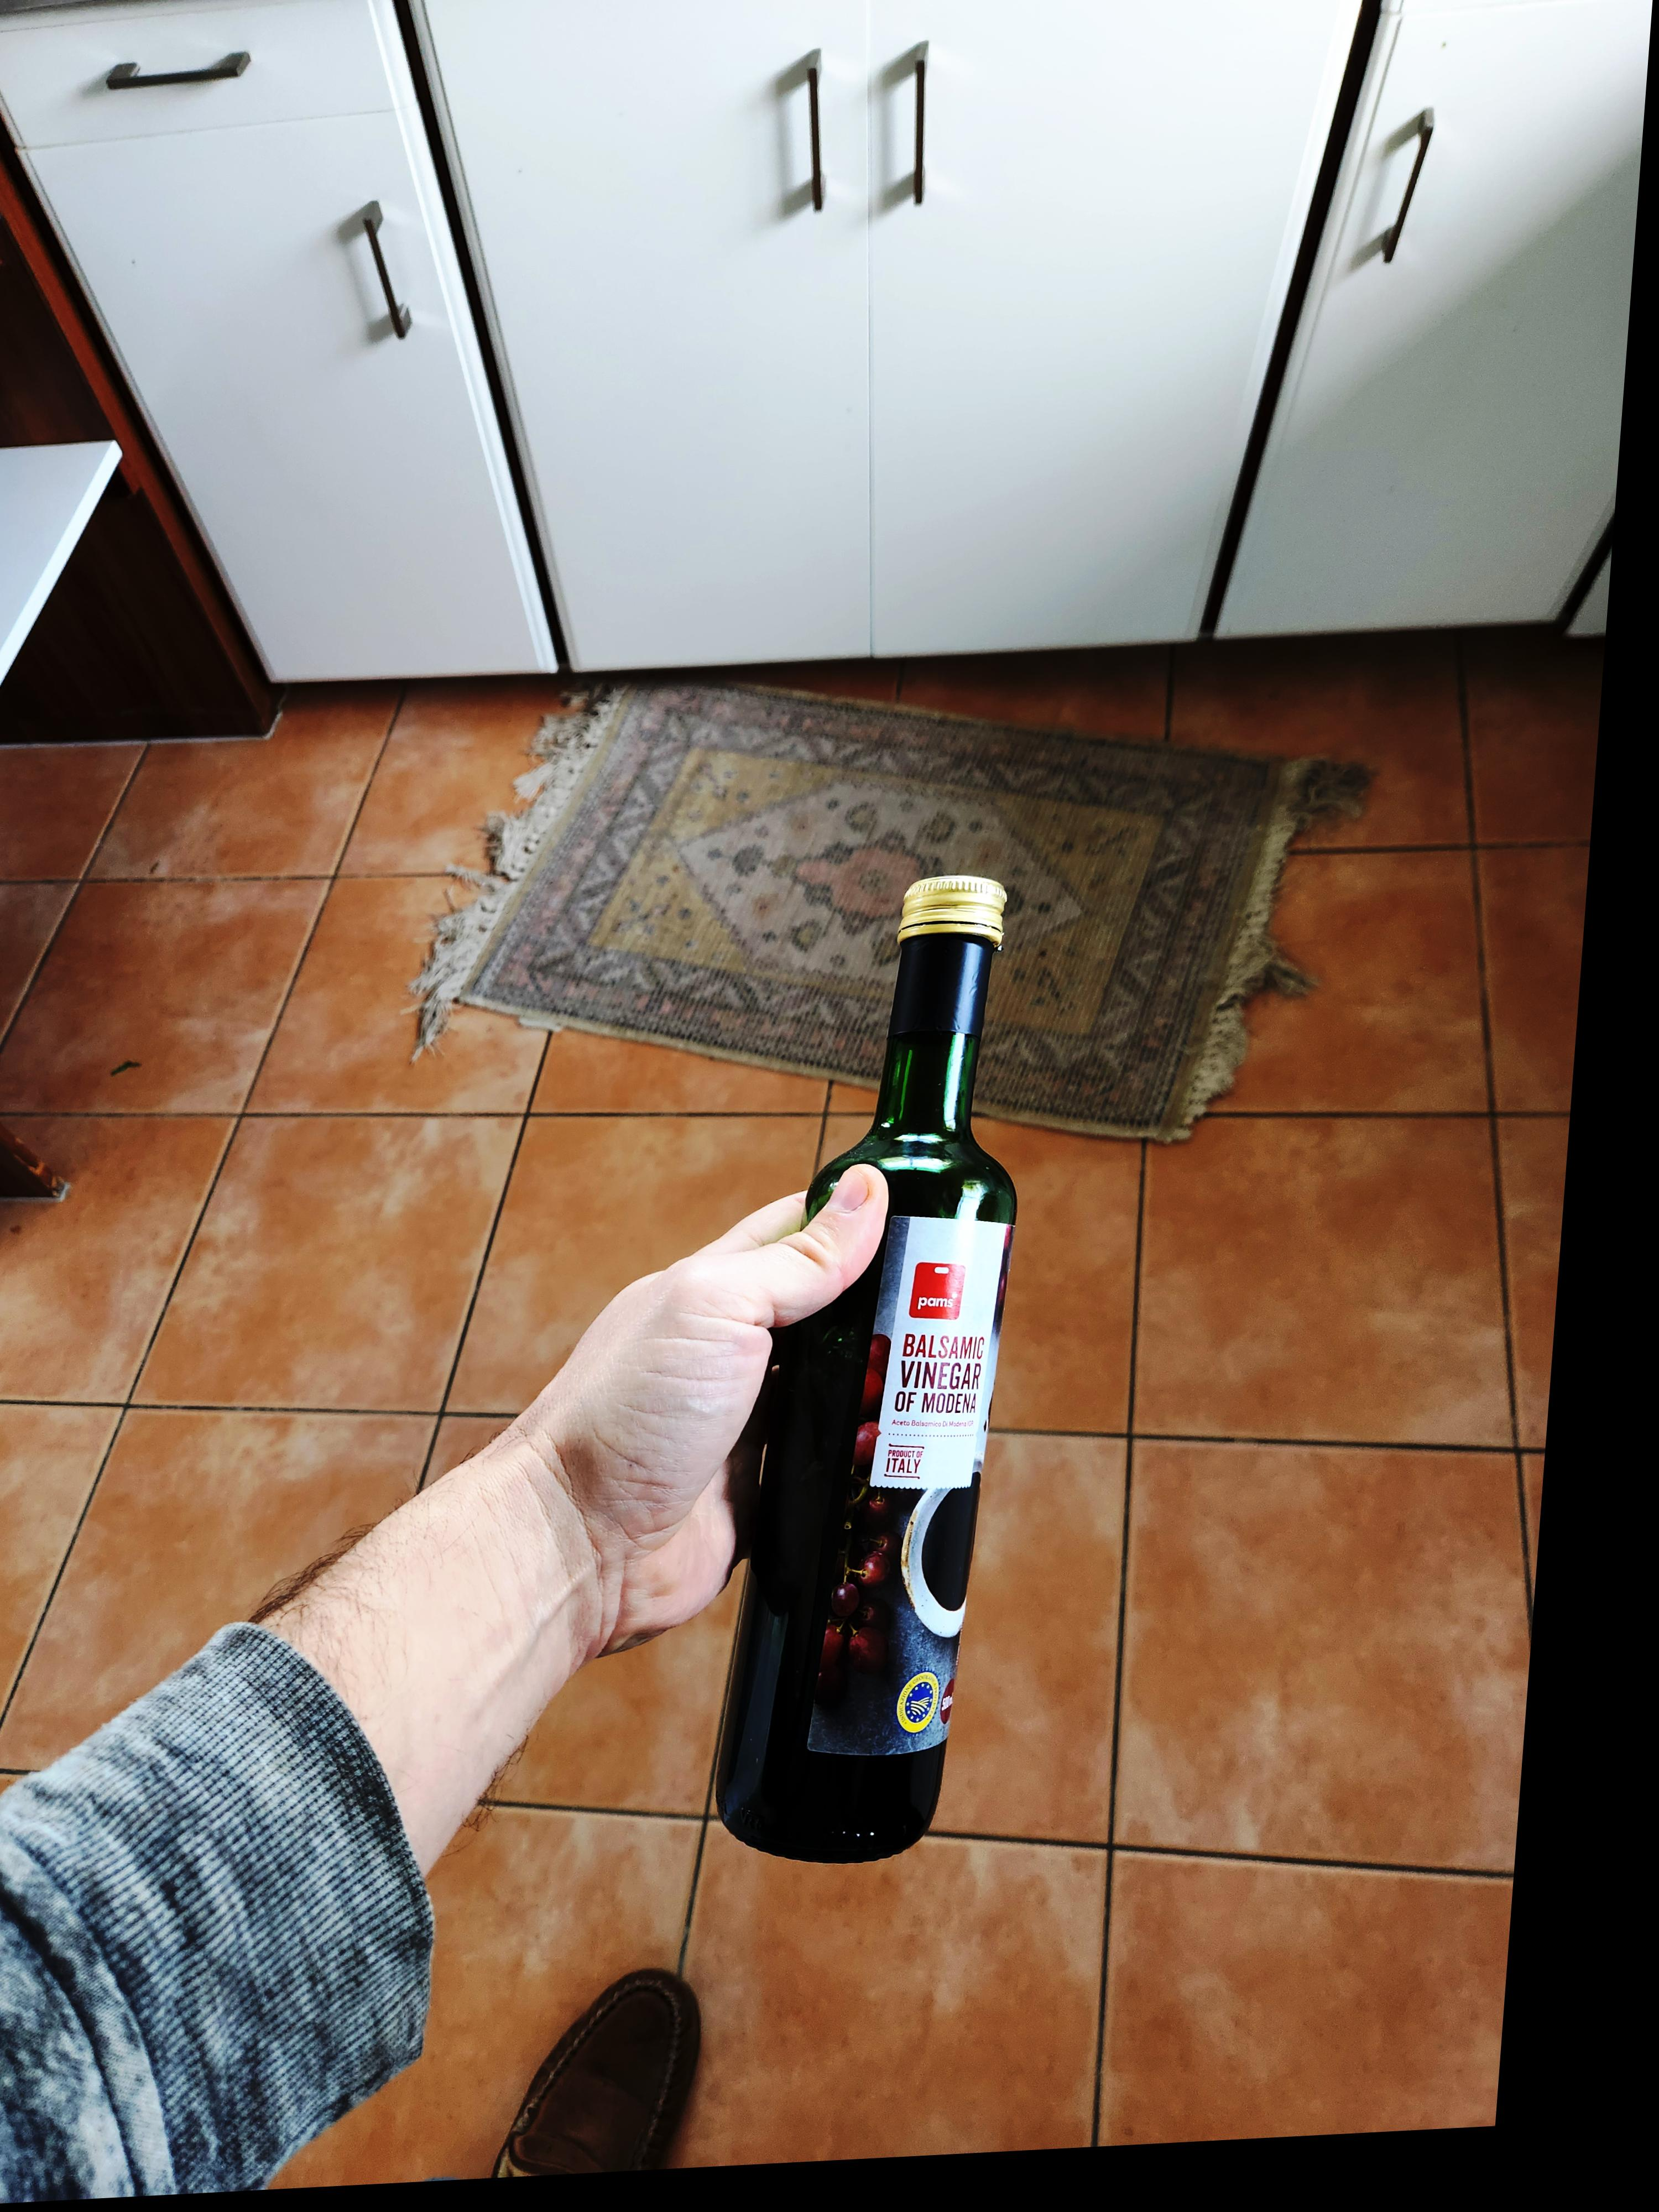balsamic vinegar: (566, 1170, 793, 2165)
